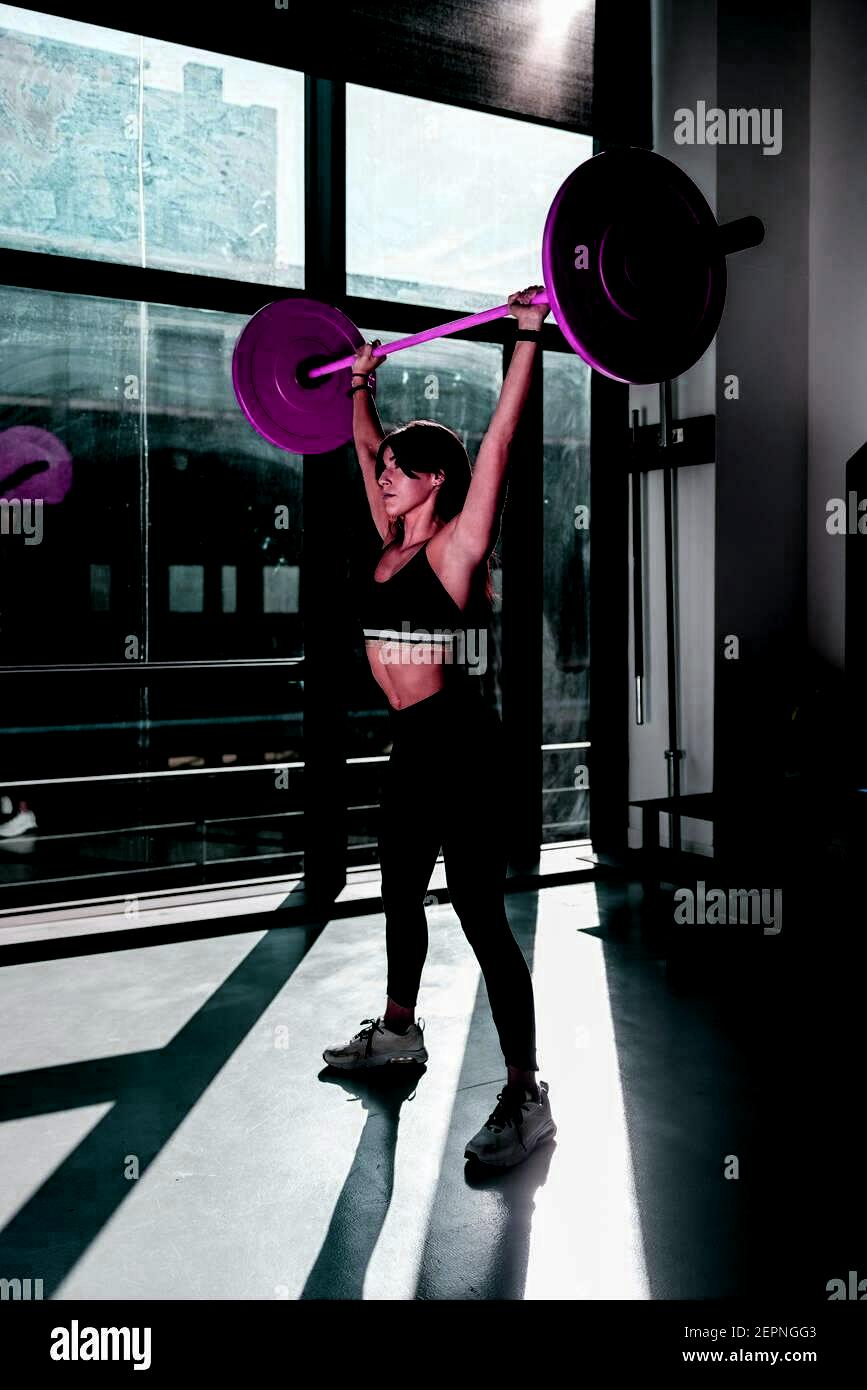Barbell: (733, 205, 776, 250)
